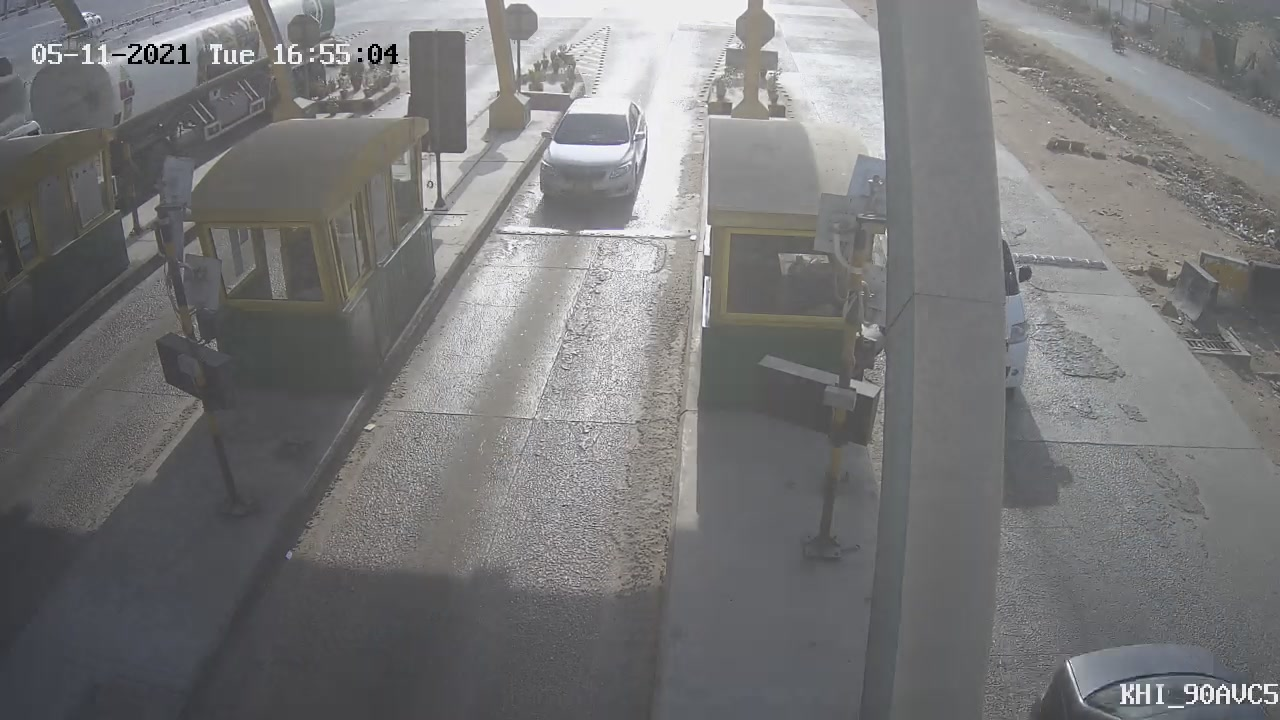F1: (517, 81, 674, 230)
